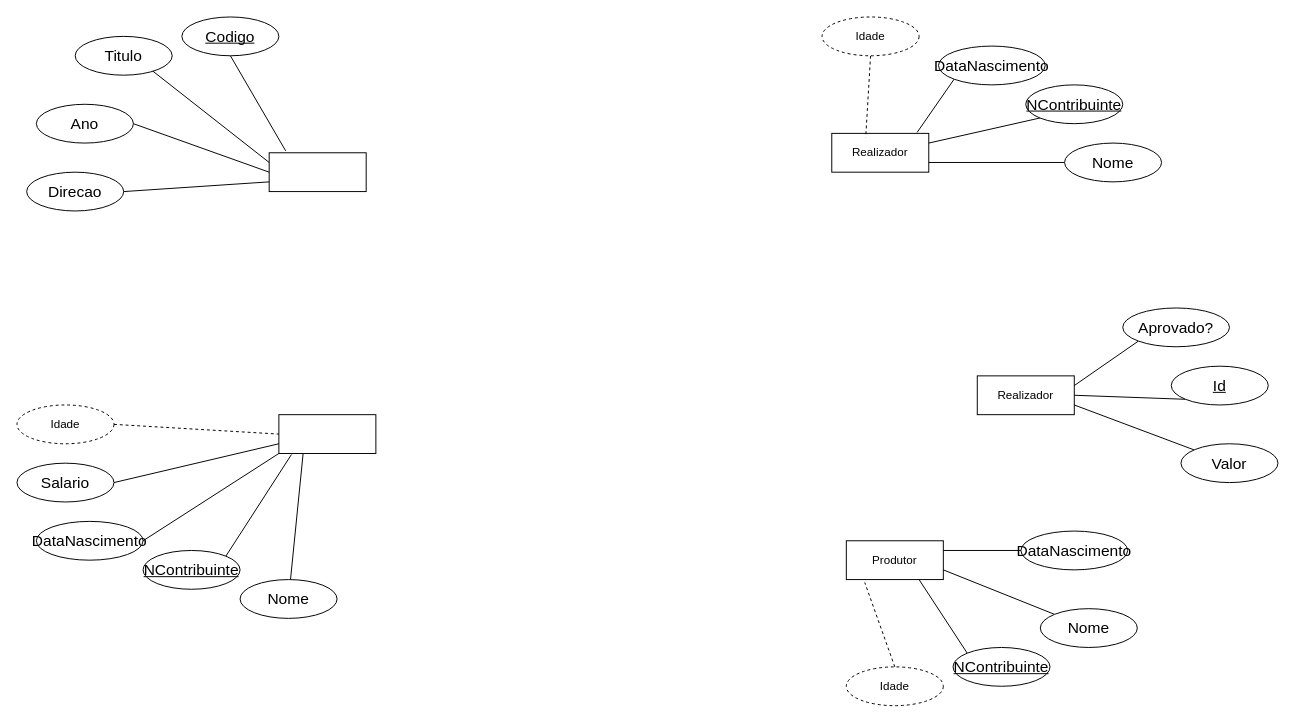
The diagram is 1295 pixels wide and 723 high, and some of its shapes have lost their labels. Here are the shapes that lost their labels. From the top down, the centre of each, then its label:
At point (317, 172): "Filme".
At point (327, 433): "Ator".
